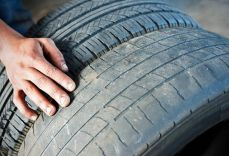bad_condition: (76, 28, 229, 154)
